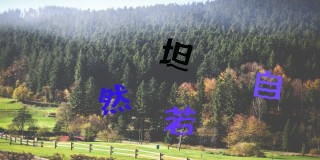坦: (160, 38, 193, 72)
然: (98, 83, 131, 115)
自: (253, 70, 281, 100)
若: (164, 106, 195, 135)
